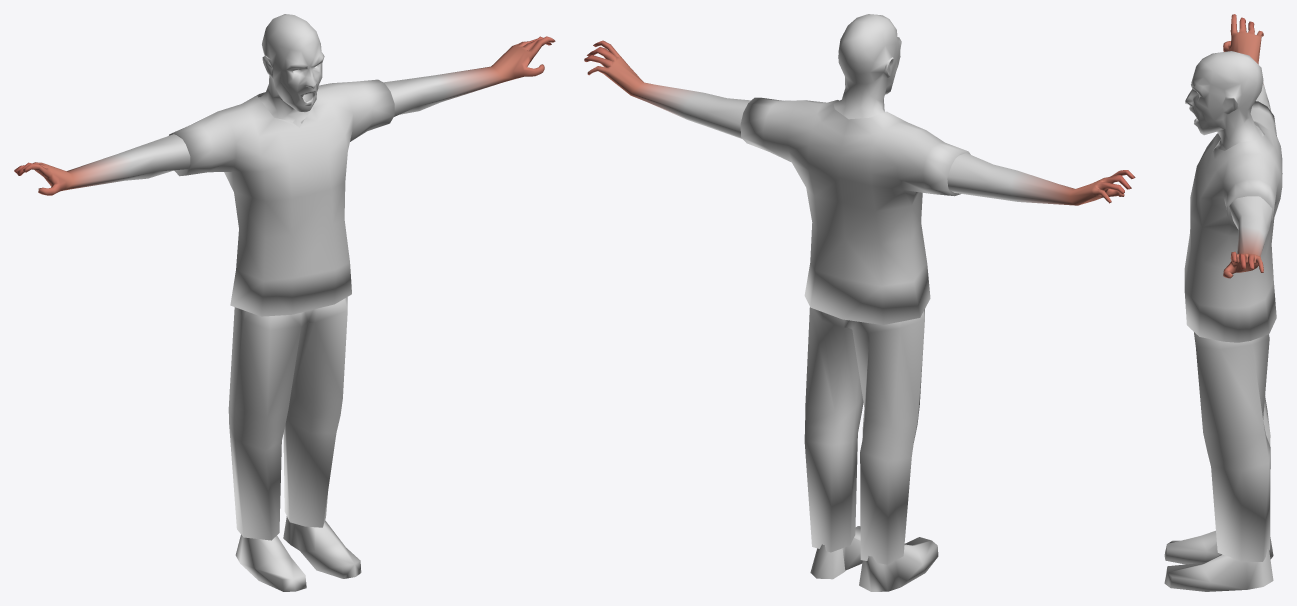
Rendered from zom_LP.fbx.
3 renders of one model, left to right at view 1: azimuth 30°, elevation 25°; view 2: azimuth 150°, elevation 25°; view 3: azimuth 270°, elevation 25°, orthographic. The views are drawn at different scales.
Visible parts, largest first — view 1: shirt_LP; view 2: shirt_LP; view 3: shirt_LP.
Part boxes in pixels (x1=…): shirt_LP: x1=14, y1=14, x2=555, y2=591; shirt_LP: x1=584, y1=14, x2=1135, y2=591; shirt_LP: x1=1164, y1=14, x2=1282, y2=591.
Size of the model in its own units: 18987 by 18530 by 3814.
